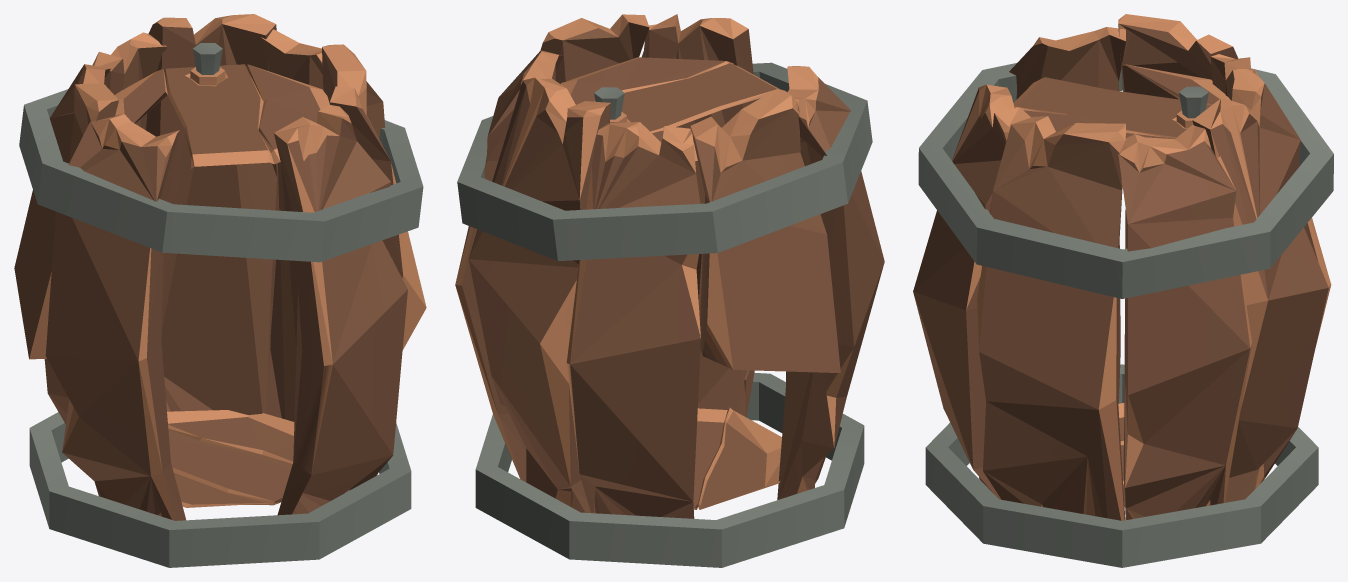
The model's file is Varil.001.fbx.
3 renders of one model, left to right at view 1: azimuth 30°, elevation 25°; view 2: azimuth 150°, elevation 25°; view 3: azimuth 270°, elevation 25°, orthographic. The views are drawn at different scales.
Parts seen in each view (by area): view 1: Varil.001; view 2: Varil.001; view 3: Varil.001.
Part boxes in pixels (x1=…): Varil.001: x1=14, y1=14, x2=426, y2=567; Varil.001: x1=455, y1=14, x2=884, y2=567; Varil.001: x1=913, y1=14, x2=1333, y2=567.
Bounding box in the file's own units: 44.47 × 49.89 × 44.76.
